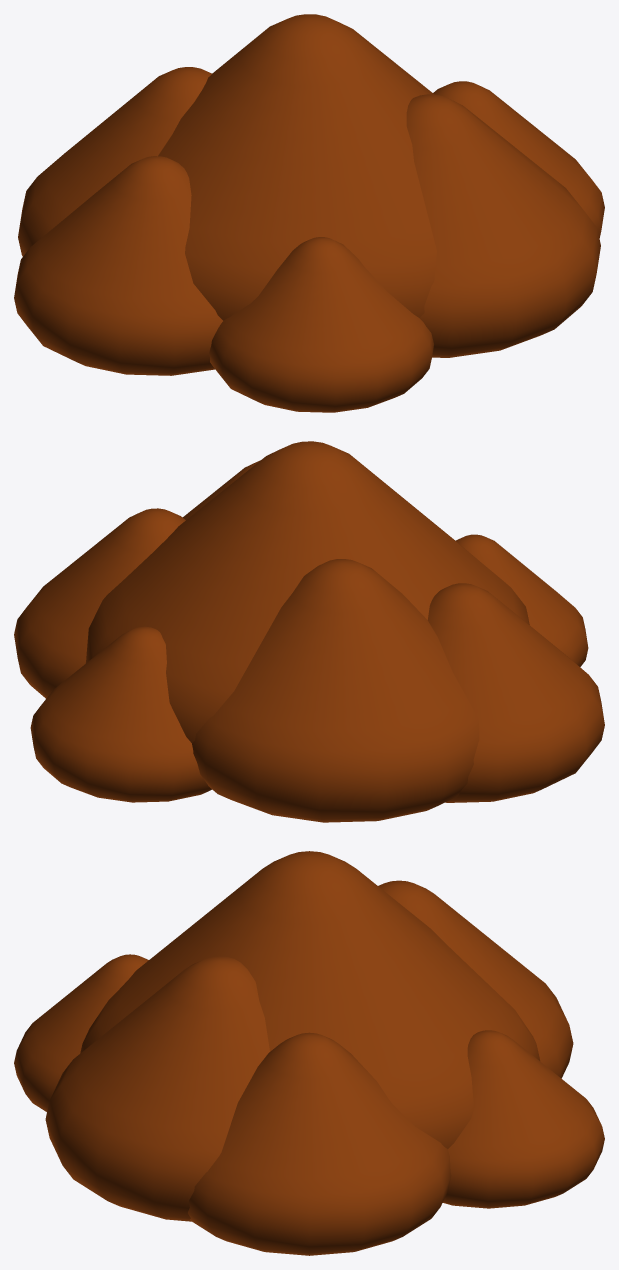
Rendered from LastLuna_Model_Node_Dirt.fbx.
3 renders of one model, top to bottom at view 1: azimuth 30°, elevation 25°; view 2: azimuth 150°, elevation 25°; view 3: azimuth 270°, elevation 25°, orthographic.
Parts seen in each view (by area): view 1: DirtPile001, Dirt_Floor004, Dirt_Floor001, Dirt_Floor006, Dirt_Floor003, Dirt_Floor002; view 2: Dirt_Floor003, DirtPile001, Dirt_Floor001, Dirt_Floor005, Dirt_Floor002, Dirt_Floor006; view 3: DirtPile001, Dirt_Floor002, Dirt_Floor004, Dirt_Floor005, Dirt_Floor003, Dirt_Floor006.
Boxes of the visible parts, box(x1,y1,x2,y2) form: DirtPile001: box(158, 14, 436, 320); Dirt_Floor004: box(406, 94, 600, 357); Dirt_Floor001: box(14, 156, 222, 375); Dirt_Floor006: box(209, 237, 433, 412); Dirt_Floor003: box(18, 67, 211, 256); Dirt_Floor002: box(433, 81, 604, 238); Dirt_Floor003: box(192, 559, 479, 822); DirtPile001: box(85, 441, 529, 742); Dirt_Floor001: box(428, 583, 604, 802); Dirt_Floor005: box(30, 626, 211, 802); Dirt_Floor002: box(14, 508, 185, 698); Dirt_Floor006: box(456, 534, 588, 667); DirtPile001: box(80, 851, 540, 1148); Dirt_Floor002: box(188, 1032, 451, 1255); Dirt_Floor004: box(45, 956, 269, 1221); Dirt_Floor005: box(442, 1030, 604, 1208); Dirt_Floor003: box(378, 880, 573, 1078); Dirt_Floor006: box(14, 954, 148, 1111).
Bounding box in the file's own units: 35.64 × 16.7 × 32.45.
